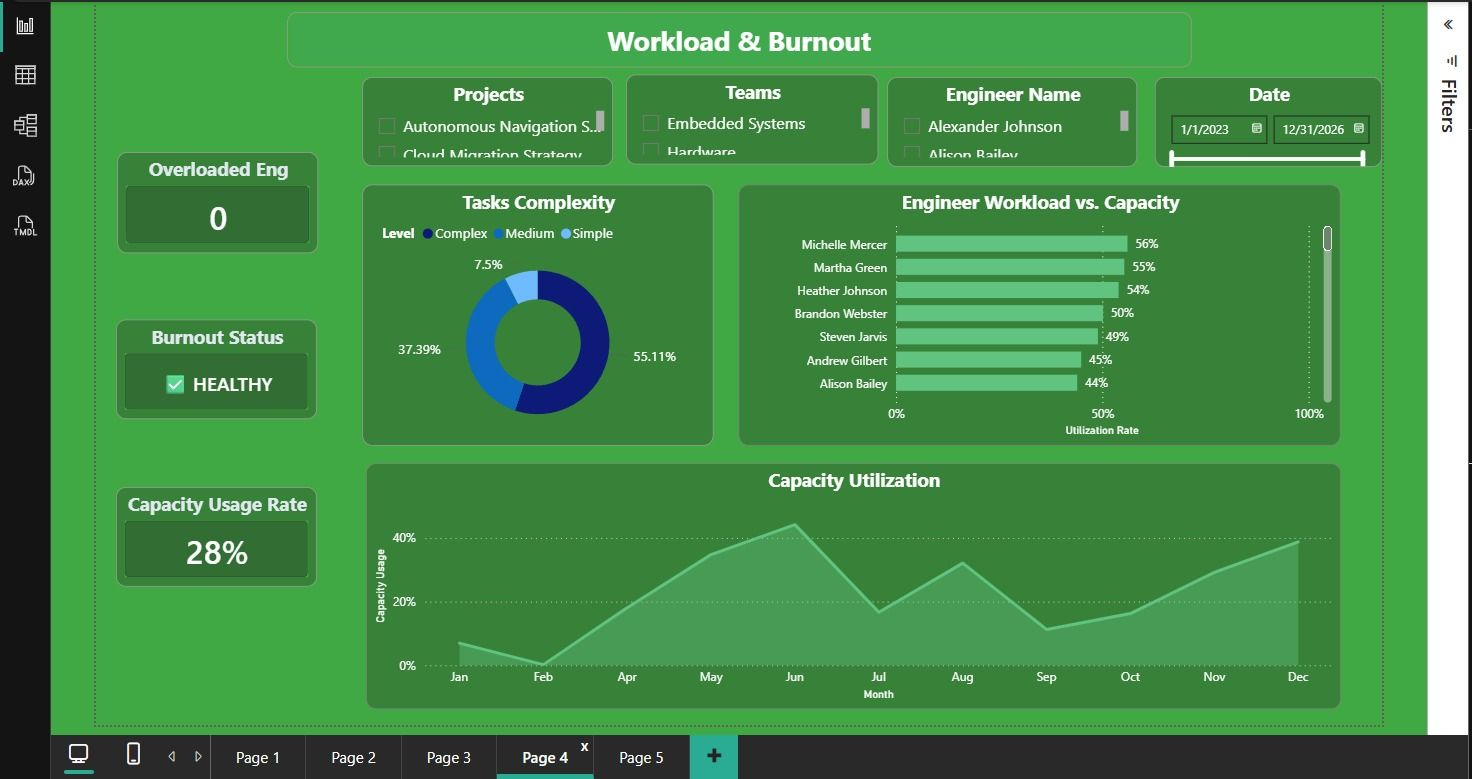

What the dashboard file says about the page in this screenshot:
{"tool":"powerbi","page":{"name":"Page 4","canvas":[1280,720],"ordinal":3},"visuals":[{"type":"shape","box":[190,10,900,55],"z":0},{"type":"clusteredBarChart","title":"Engineer Workload vs. Capacity","fields":{"Category":["Engineers.full_name"],"Y":["Measure Table.Capacity Usage Rate"]},"box":[639.4,181.6,599.6,260],"z":1000},{"type":"cardVisual","title":"Burnout Status","fields":{"Data":["Measure Table.Burnout Status"]},"box":[19.9,316.5,200.3,99.5],"z":2000},{"type":"cardVisual","title":"Overloaded Eng","fields":{"Data":["Engineers.Overloaded Engineers"]},"box":[21,149,200.3,100.8],"z":3000},{"type":"cardVisual","title":"Capacity Usage Rate","fields":{"Data":["Measure Table.Capacity Usage Rate"]},"box":[19.9,482.7,200.3,99.5],"z":4000},{"type":"slicer","title":"Projects","fields":{"Values":["Projects.project_name"]},"box":[264.8,74.1,249.7,89.2],"z":5000},{"type":"slicer","title":"Teams","fields":{"Values":["Engineers.team"]},"box":[527.4,72.1,251.3,89.6],"z":6000},{"type":"slicer","title":"Date ","fields":{"Values":["Dim_Date.Date"]},"box":[1053.6,74.6,226.4,89.6],"z":7000},{"type":"slicer","title":"Engineer Name","fields":{"Values":["Engineers.full_name"]},"box":[787.4,74.6,248.8,89.6],"z":8000},{"type":"areaChart","title":"Capacity Utilization","fields":{"Category":["Dim_Date.Month"],"Y":["Measure Table.Capacity Usage Rate"]},"box":[268.7,459,970.3,245.1],"z":9000},{"type":"donutChart","title":"Tasks Complexity","fields":{"Y":["Measure Table.Total Logged Hours"],"Category":["Task_Levels.level_name"]},"box":[265,181.6,349.6,260],"z":10000}]}

Visuals, with their boxes on the page's 1280x720 design canvas (x1, y1, x2, y2). These are canvas units, not pixel positions in the 1472x779 screenshot, which may show the page scaled, cropped or inside an application window:
shape: 190, 10, 1090, 65
"Engineer Workload vs. Capacity" clusteredBarChart: 639, 182, 1239, 442
"Burnout Status" cardVisual: 20, 316, 220, 416
"Overloaded Eng" cardVisual: 21, 149, 221, 250
"Capacity Usage Rate" cardVisual: 20, 483, 220, 582
"Projects" slicer: 265, 74, 514, 163
"Teams" slicer: 527, 72, 779, 162
"Date " slicer: 1054, 75, 1280, 164
"Engineer Name" slicer: 787, 75, 1036, 164
"Capacity Utilization" areaChart: 269, 459, 1239, 704
"Tasks Complexity" donutChart: 265, 182, 615, 442
